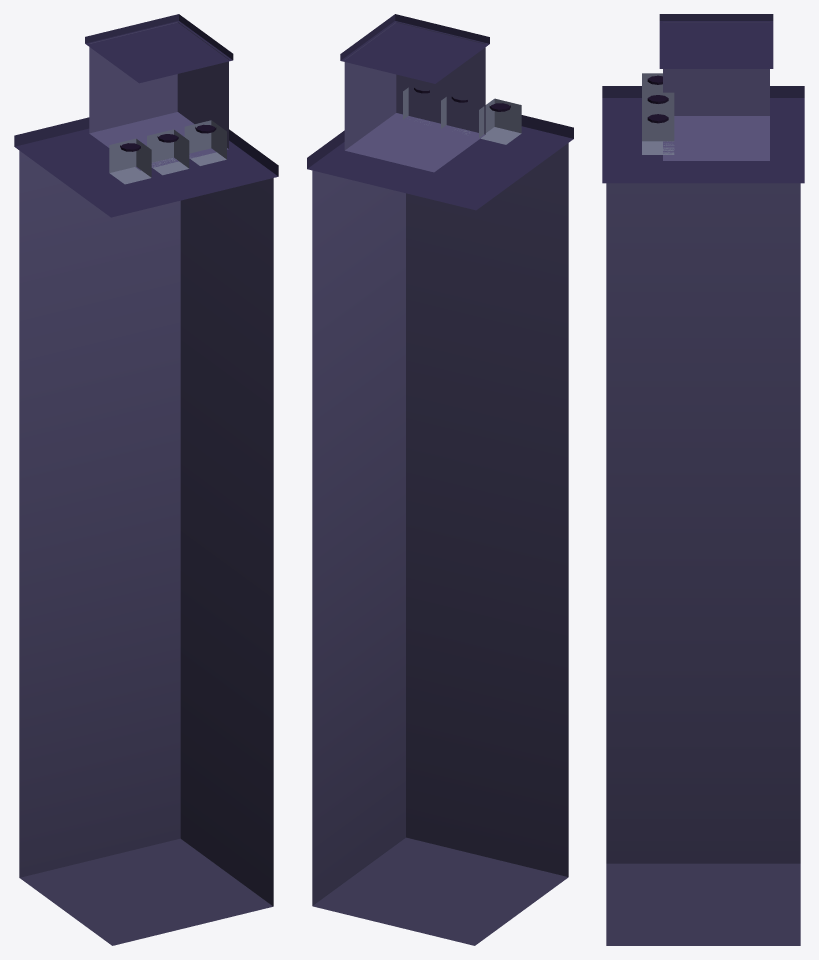
Rendered from hop_tower_c.glb.
3 views of the same model, side by side, from view 1: azimuth 30°, elevation 25°; view 2: azimuth 150°, elevation 25°; view 3: azimuth 270°, elevation 25° (orthographic). The views are drawn at different scales.
Parts seen in each view (by area): view 1: hop_tower_c; view 2: hop_tower_c; view 3: hop_tower_c.
Part boxes in pixels (x1,y1,x2,y2): hop_tower_c: [14, 14, 278, 945]; hop_tower_c: [307, 14, 573, 945]; hop_tower_c: [602, 14, 804, 945].
Bounding box in the file's own units: 3.12 × 14.91 × 3.12.
